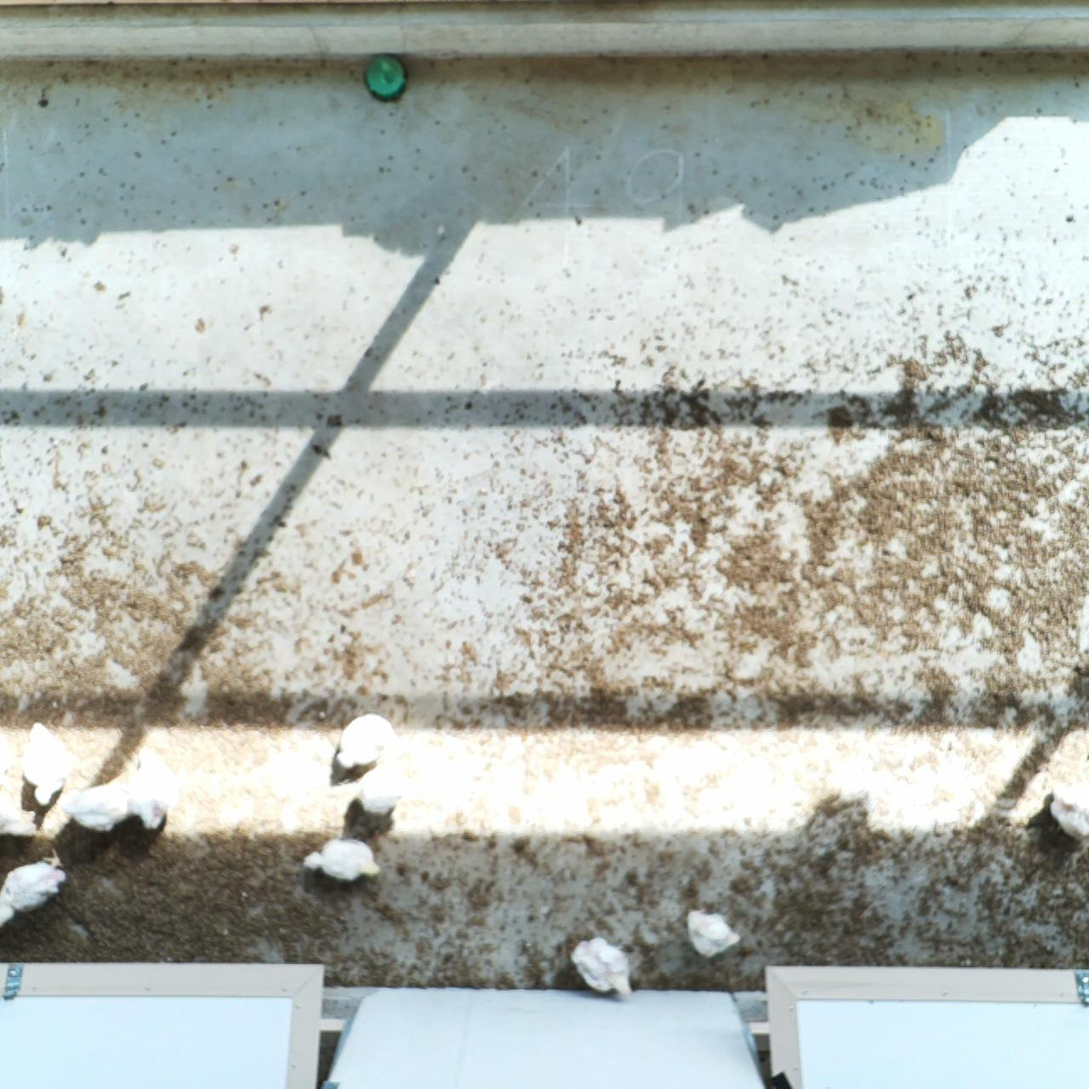chicken: (0, 844, 72, 923), (125, 744, 183, 833), (567, 930, 637, 999), (18, 720, 73, 806), (56, 777, 136, 833), (301, 834, 383, 885), (333, 709, 398, 771), (680, 904, 746, 965), (353, 758, 411, 820), (1039, 778, 1089, 841), (0, 791, 39, 842)
